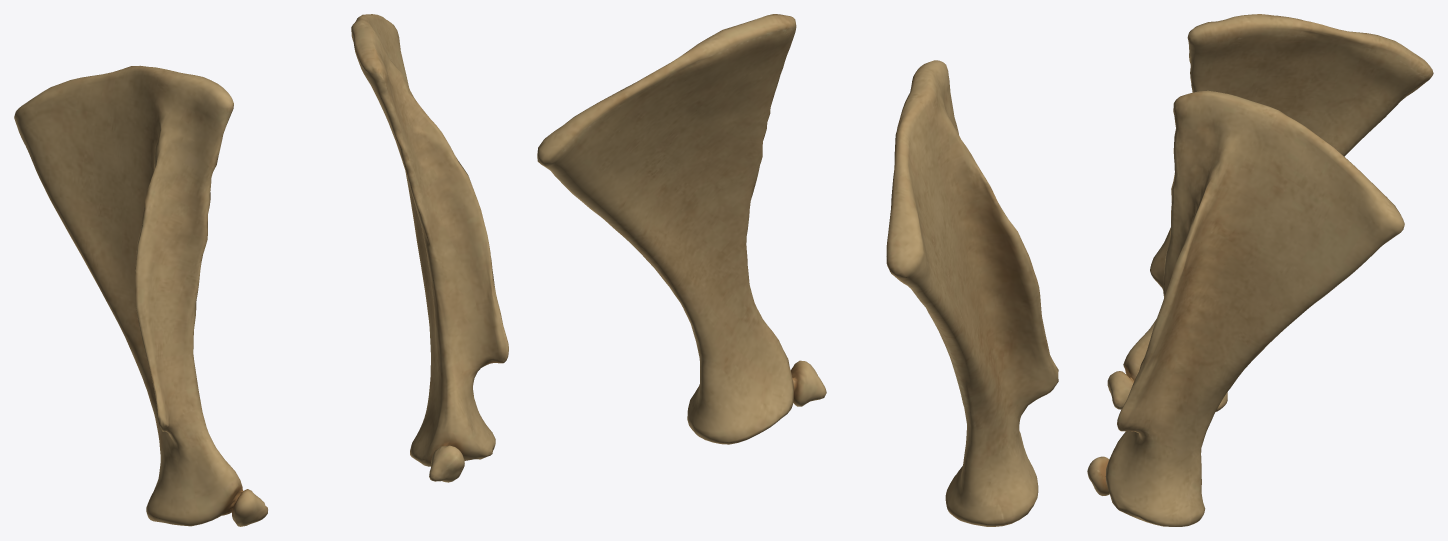
The model's file is Scalpula.glb.
3 views of the same model, side by side, from view 1: azimuth 30°, elevation 25°; view 2: azimuth 150°, elevation 25°; view 3: azimuth 270°, elevation 25° (orthographic). The views are drawn at different scales.
Visible parts, largest first — view 1: Scapula; view 2: Scapula; view 3: Scapula.
Boxes of the visible parts, bbox=[...] form: Scapula: bbox=[14, 14, 508, 526]; Scapula: bbox=[537, 14, 1058, 526]; Scapula: bbox=[1087, 14, 1433, 526].
Bounding box in the file's own units: 182 × 198 × 154.
1 material, 1 textured.
